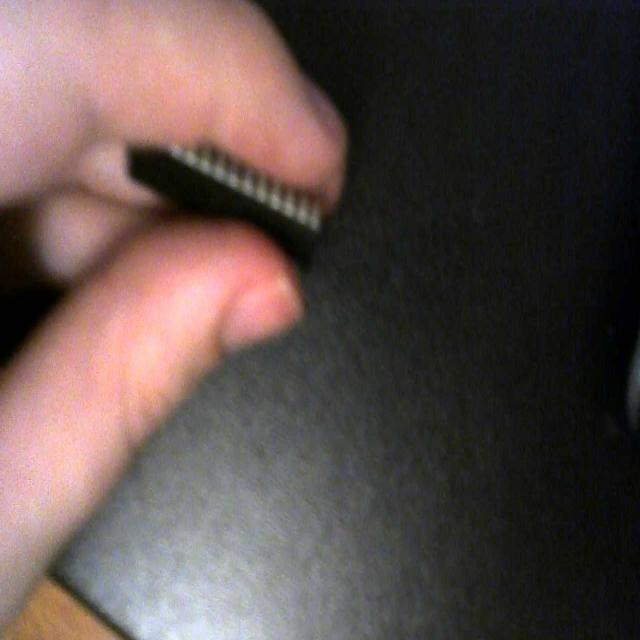atmega: (121, 95, 326, 281)
